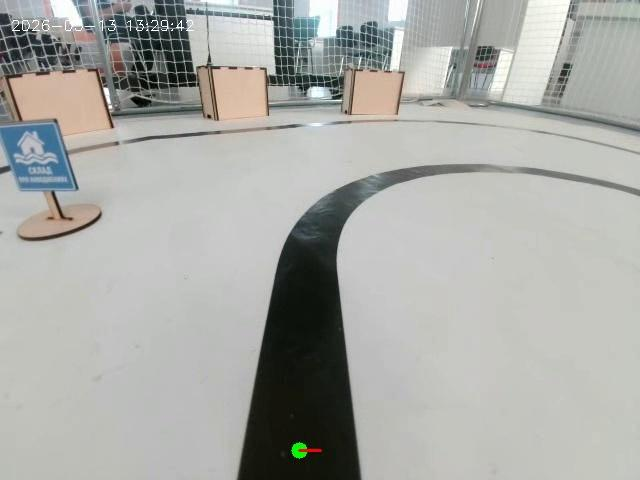flood: (0, 108, 102, 255)
